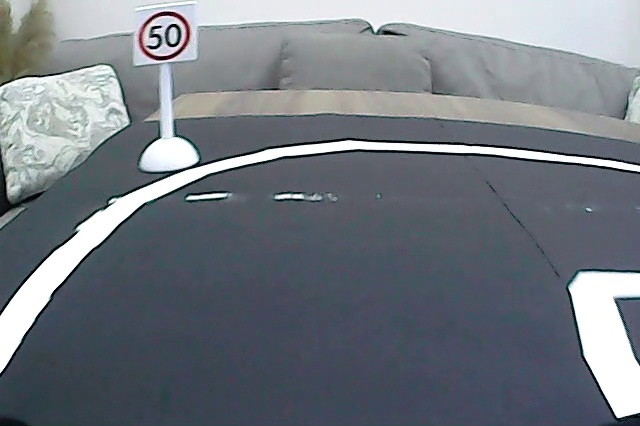speed limit 50: (137, 9, 193, 62)
